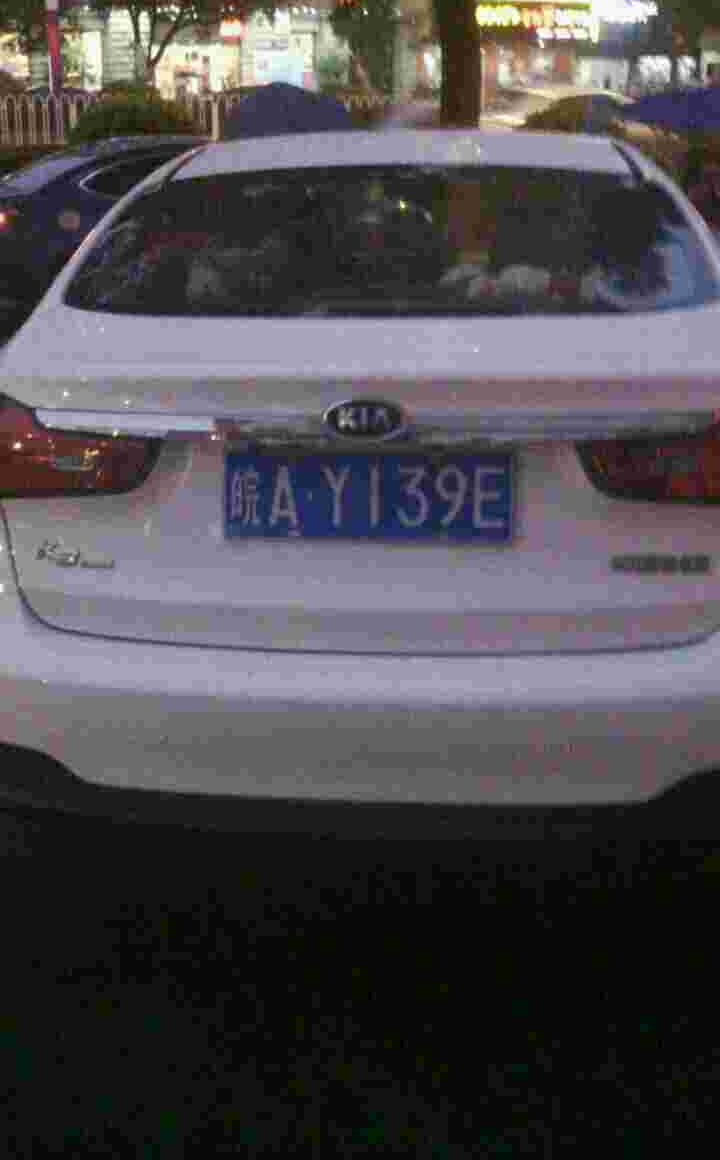car: (207, 443, 532, 554)
